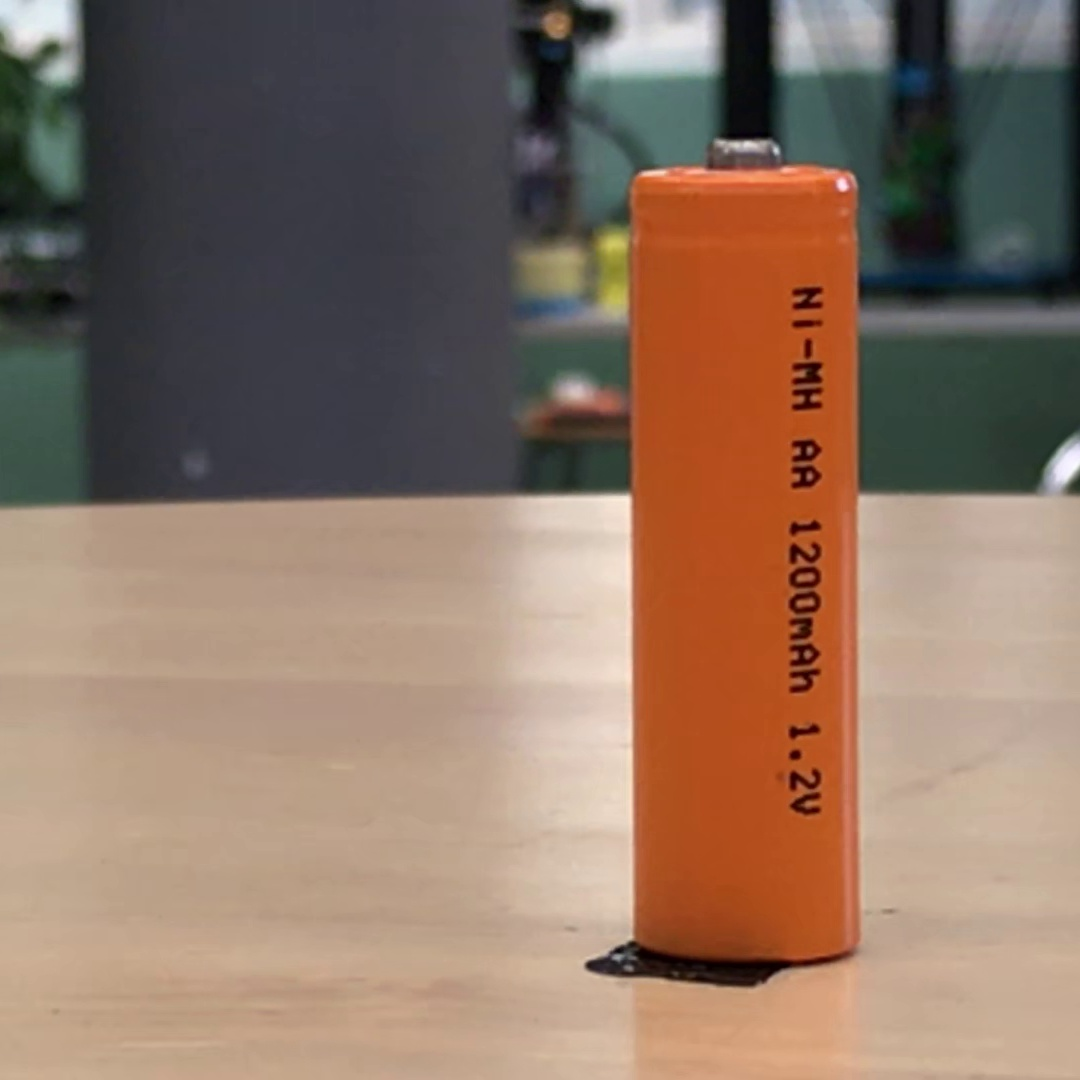keyword: (783, 277, 832, 420), (779, 715, 830, 825)
